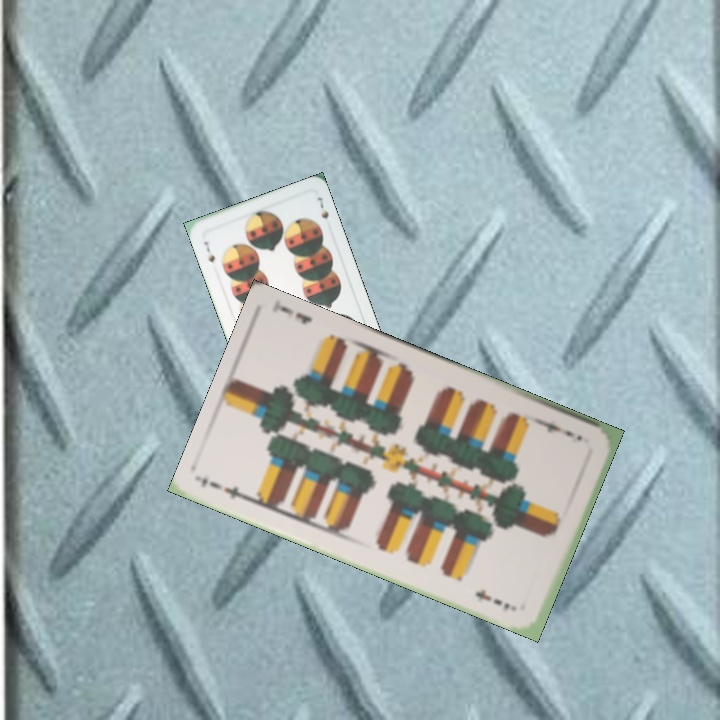E7: (535, 415, 585, 444), (205, 477, 255, 505)
S7: (199, 237, 217, 265)
